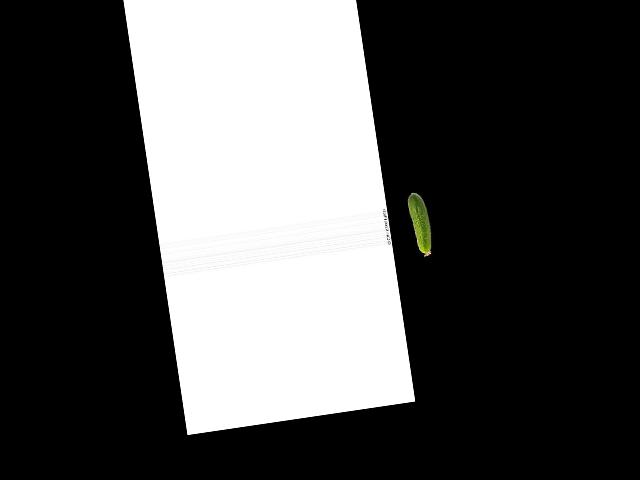cucumber: (406, 190, 434, 257)
